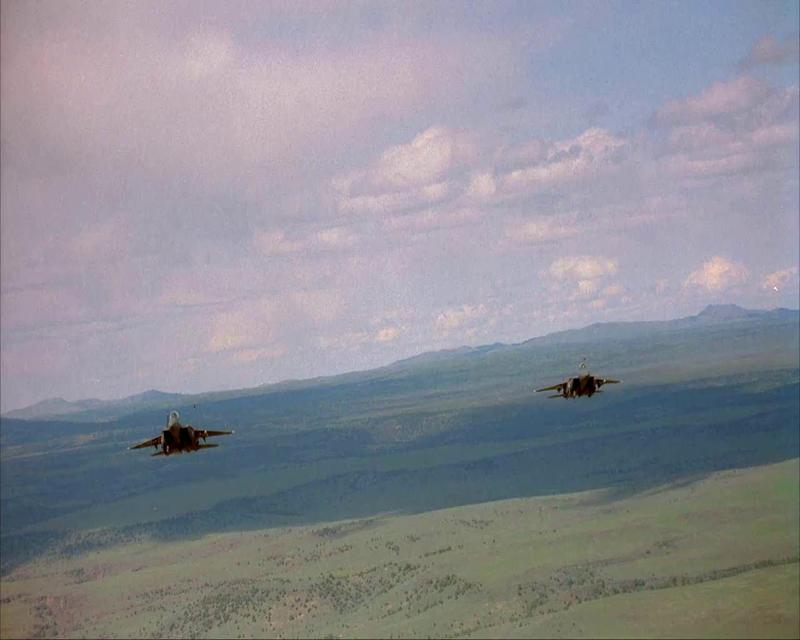UAV: (126, 407, 235, 457), (532, 357, 621, 400)
